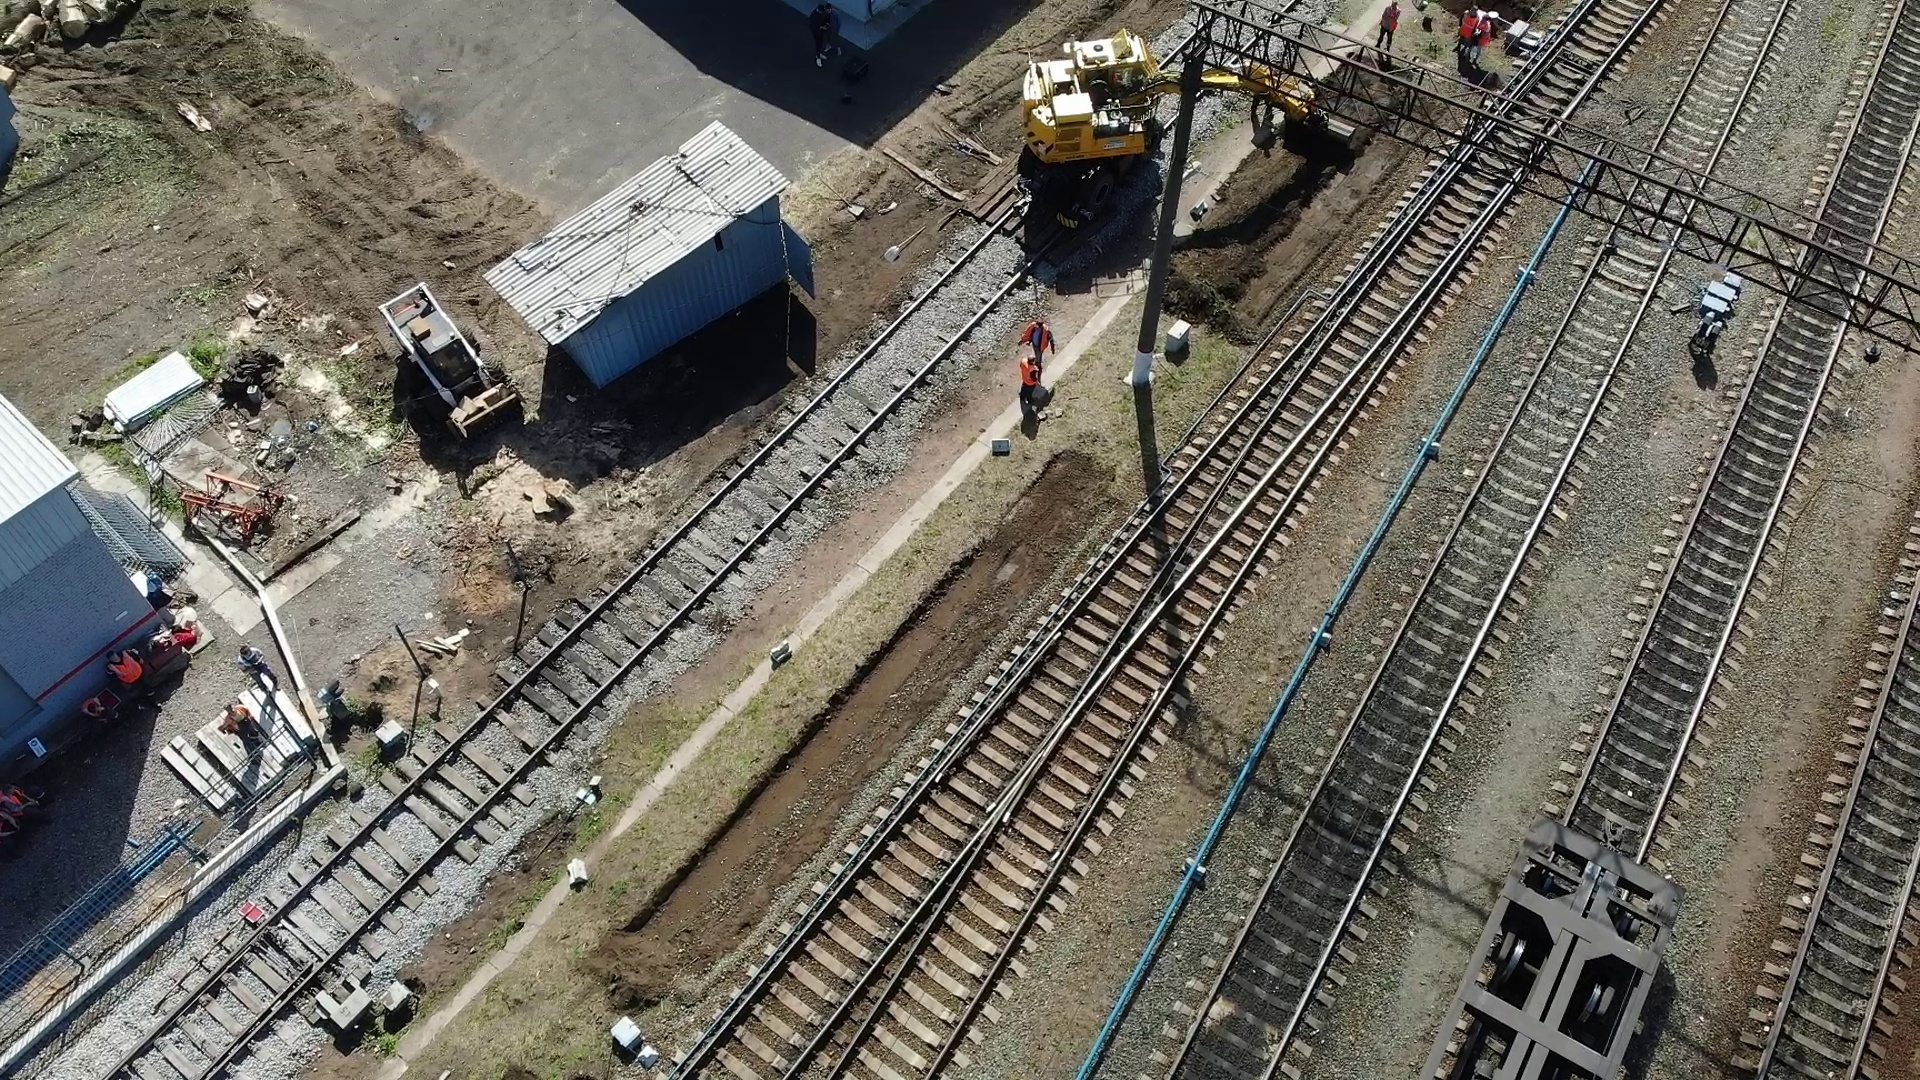kjtv: (1026, 28, 1275, 214)
